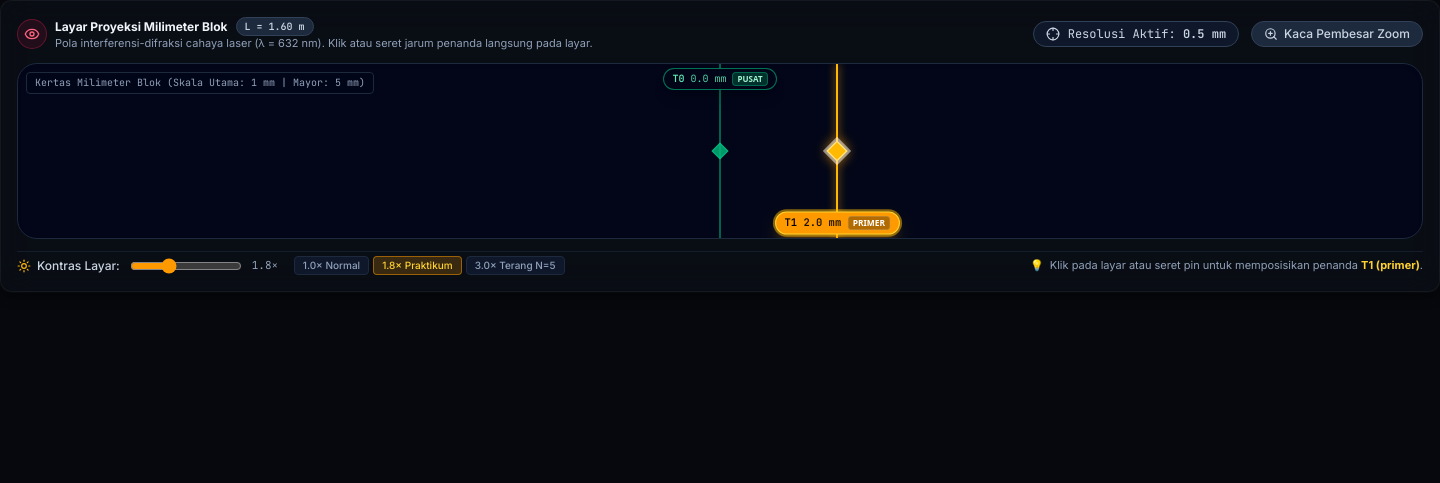
Test: Wave Optics UI Instruments (Langkah 2) › ScreenPatternView › renders projection screen, active resolution 0.5 mm by default, and allows zoom toggle to 0.1 mm
Expected: the text "Resolusi Aktif: 0.5 mm" is shown, left=1068, top=26, right=1226, bottom=42
Expected: the text "0.5 mm" is shown, left=1183, top=26, right=1226, bottom=42
Note: Click Zoom Magnifier
Click the button "Kaca Pembesar Zoom" at (1337, 34), box left=1251, top=21, right=1423, bottom=47
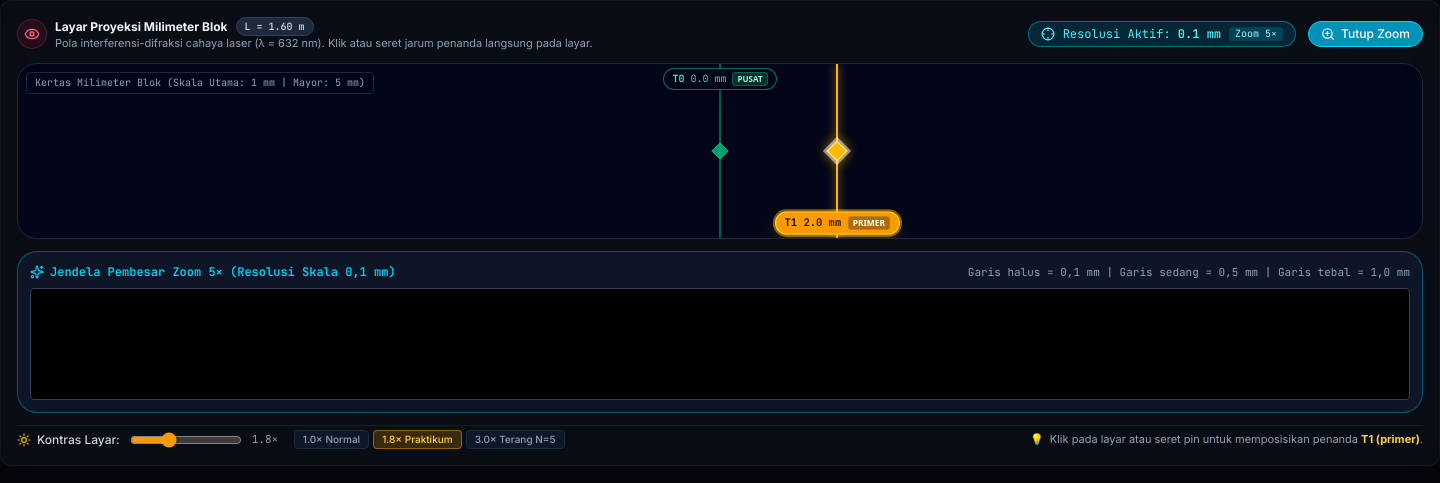
Expected: the text "0.1 mm" is shown, left=1178, top=26, right=1221, bottom=42
Expected: the text "Jendela Pembesar Zoom 5× (Resolusi Skala 0,1 mm)" is shown, left=30, top=264, right=396, bottom=280
